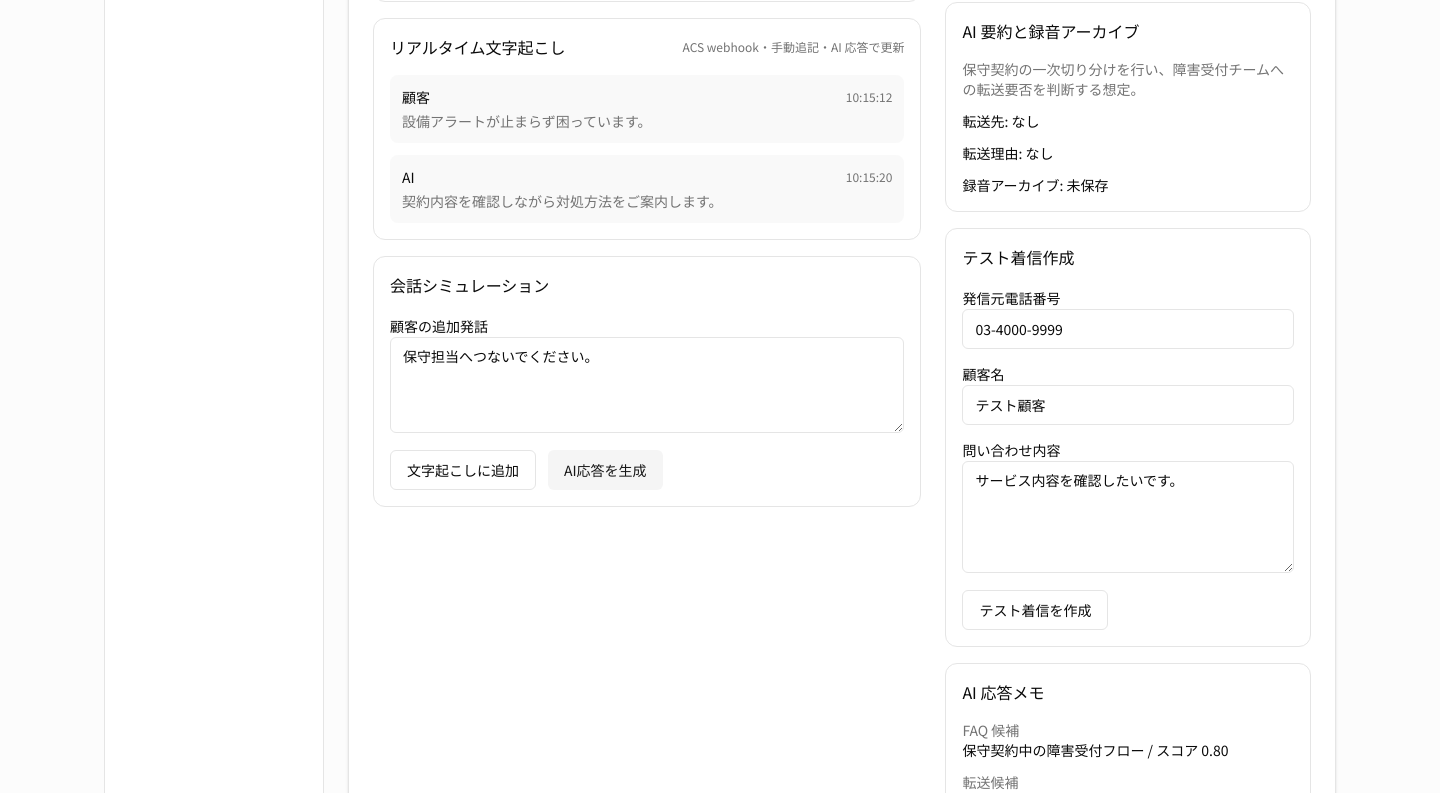
Scenario: CallConsolePage › テスト着信を作成すると表示が切り替わる
(page scrolled)
Replace the text in the field labelled "顧客名" with "新規テスト顧客": {"x": 1128, "y": 405} [962,385,1294,425]
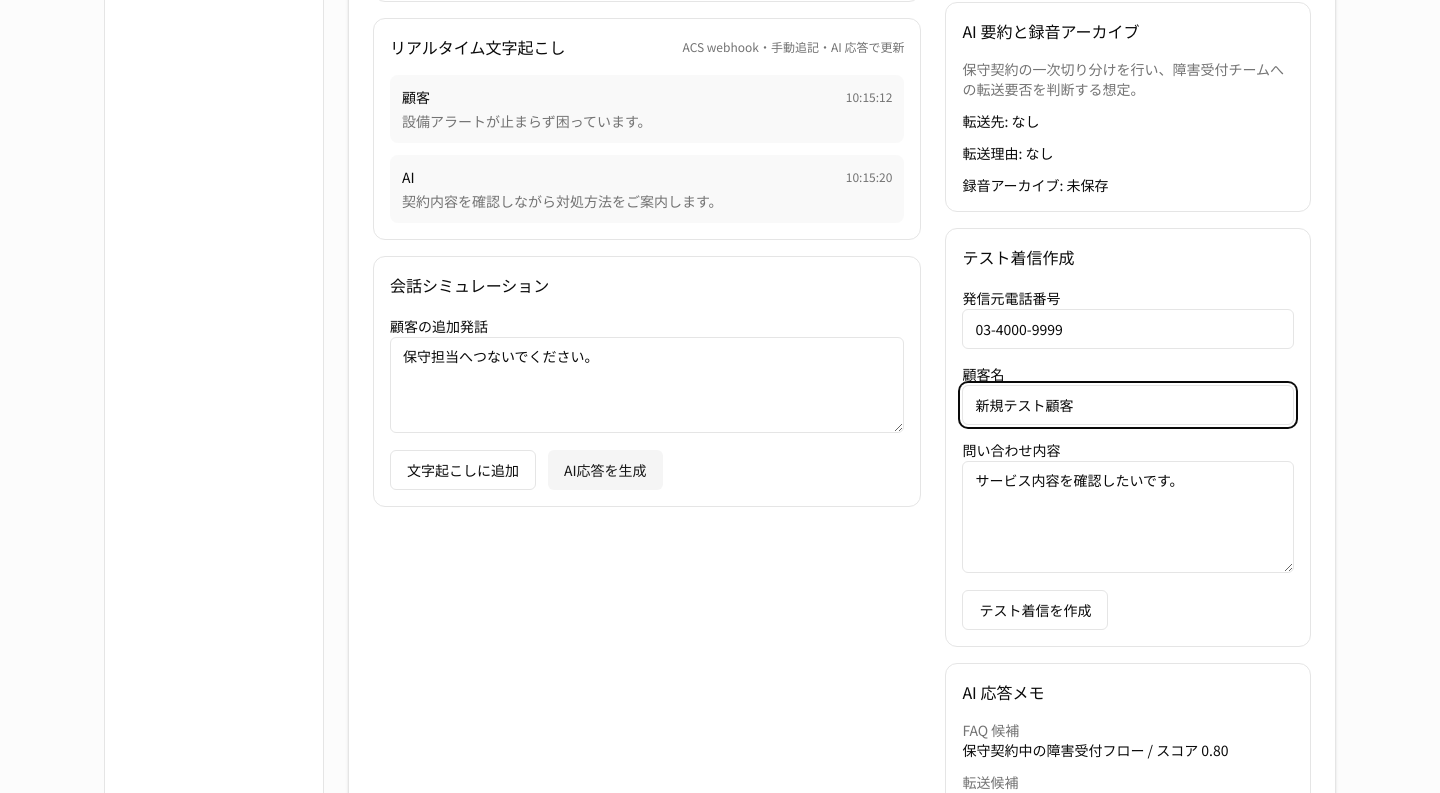
Click the button "テスト着信を作成": {"x": 1035, "y": 610} [962,590,1108,630]
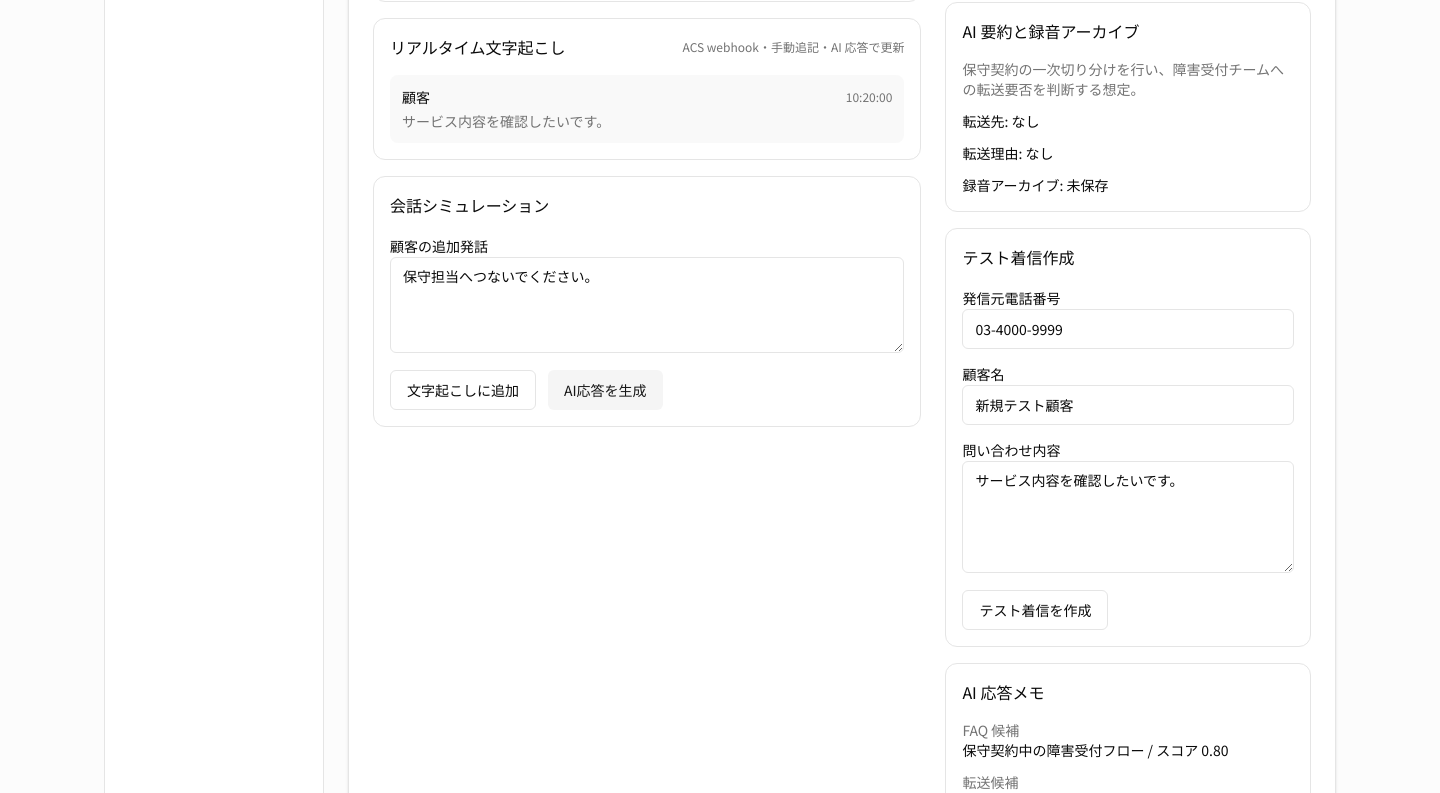
Now the text "サービス内容を確認したいです。" is shown, box [402,111,610,131]
